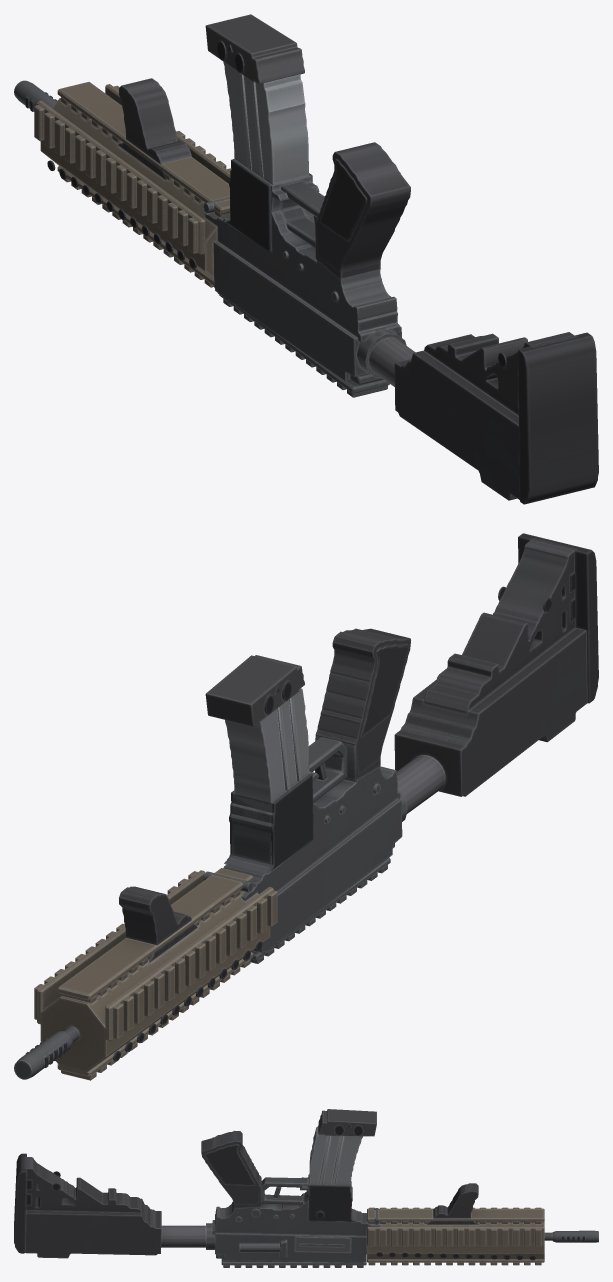
3 renders of one model, top to bottom at view 1: azimuth 30°, elevation 25°; view 2: azimuth 150°, elevation 25°; view 3: azimuth 270°, elevation 25°, orthographic. The views are drawn at different scales.
Parts seen in each view (by area): view 1: AT_M4_export; view 2: AT_M4_export; view 3: AT_M4_export.
Part boxes in pixels (bbox=[...]): AT_M4_export: bbox=[14, 14, 598, 504]; AT_M4_export: bbox=[14, 533, 598, 1080]; AT_M4_export: bbox=[14, 1109, 598, 1267].
Bounding box in the file's own units: 0.0457 × 0.5085 × 0.1425.
